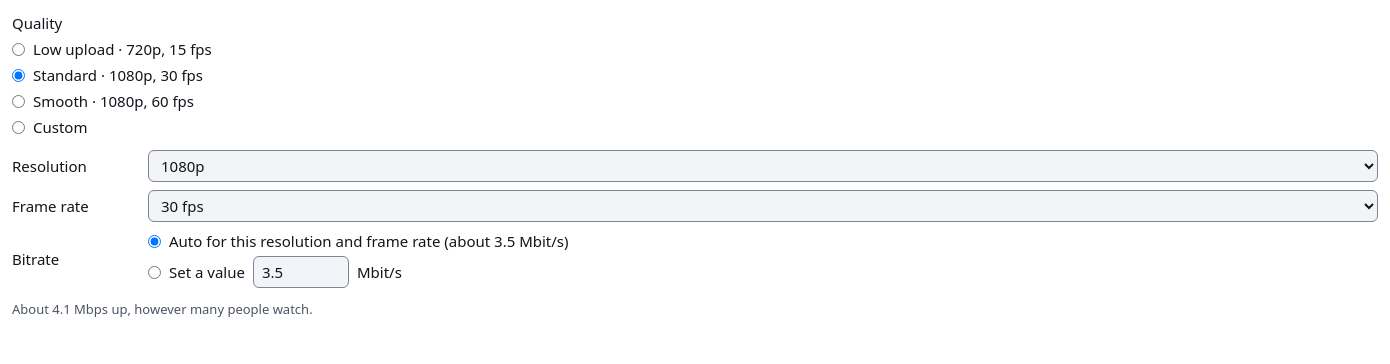
it: quality controls › switches to Custom, keeping the shown values, when a control is edited
Select "60 fps" in the dropdown labelled "Frame rate". click: coordinates (763, 206)
box: [148,190,1378,222]
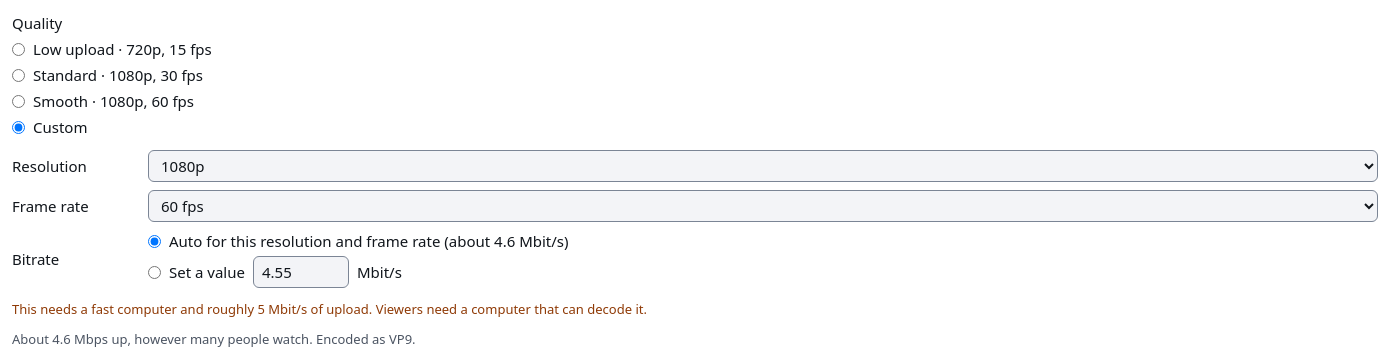
Expected: the dropdown labelled "Resolution" shows "1080p", [148,150,1378,182]
Result: the radio button labelled "Custom" is checked at [12,120,25,134]
Note: Choosing a preset again fills the controls with its values and keeps the custom ones for later.
Click the radio button labelled "Low upload · 720p, 15 fps". click: coordinates (18, 49)
box: [12,42,25,56]
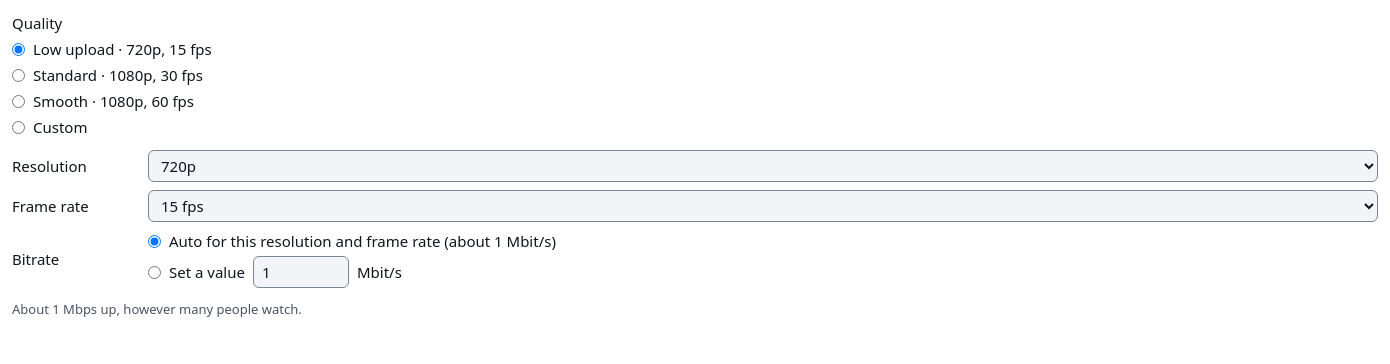
Result: the dropdown labelled "Resolution" shows "720p" at [148,150,1378,182]
